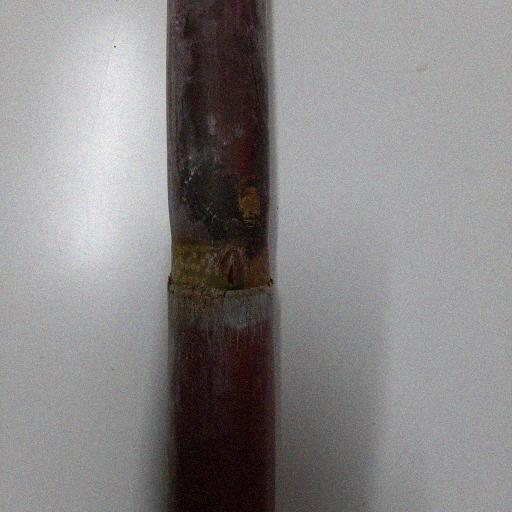Bud: (222, 249, 245, 287)
